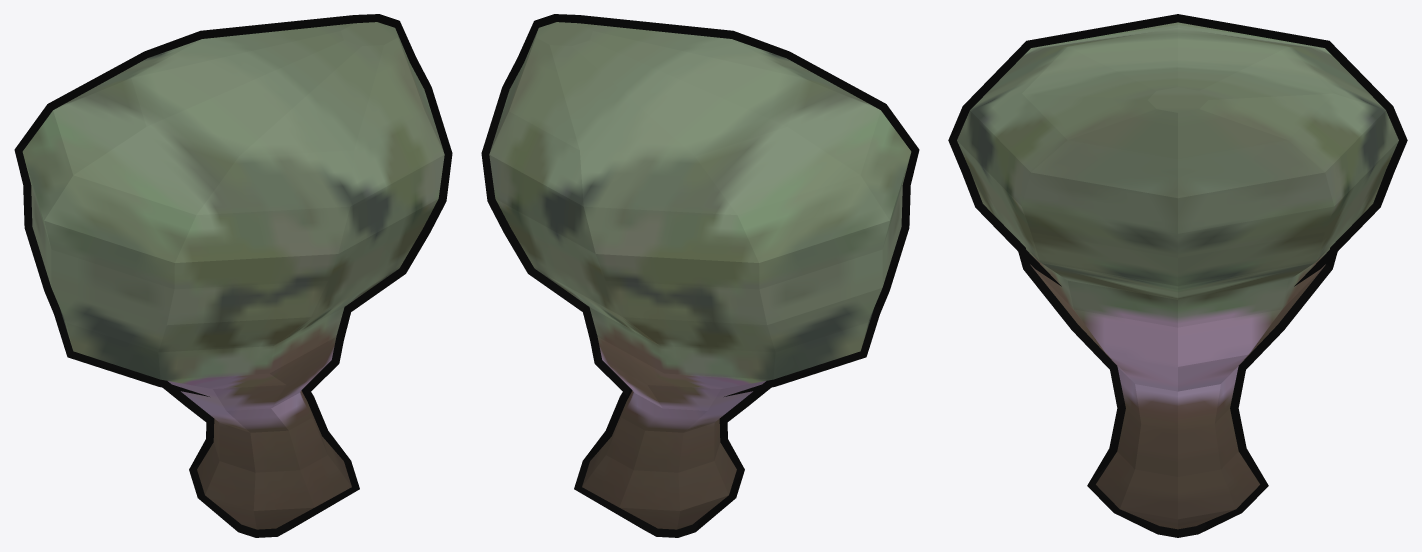
File: Plant_Plant_TreePolux_Things_Plant_TreePolux_Immature_TreePoluxImmature.glb
3 views of the same model, side by side, from view 1: azimuth 30°, elevation 25°; view 2: azimuth 150°, elevation 25°; view 3: azimuth 270°, elevation 25° (orthographic). The views are drawn at different scales.
Visible parts, largest first — view 1: Body, Outline; view 2: Body, Outline; view 3: Body, Outline.
Boxes of the visible parts, left/top/right/bottom form: Body: left=22, top=22, right=444, bottom=529; Outline: left=14, top=14, right=452, bottom=537; Body: left=489, top=22, right=911, bottom=529; Outline: left=481, top=14, right=919, bottom=537; Body: left=957, top=22, right=1398, bottom=529; Outline: left=948, top=14, right=1407, bottom=537.
Bounding box in the file's own units: 0.4217 × 0.4844 × 0.4141.
2 materials, 1 textured.
